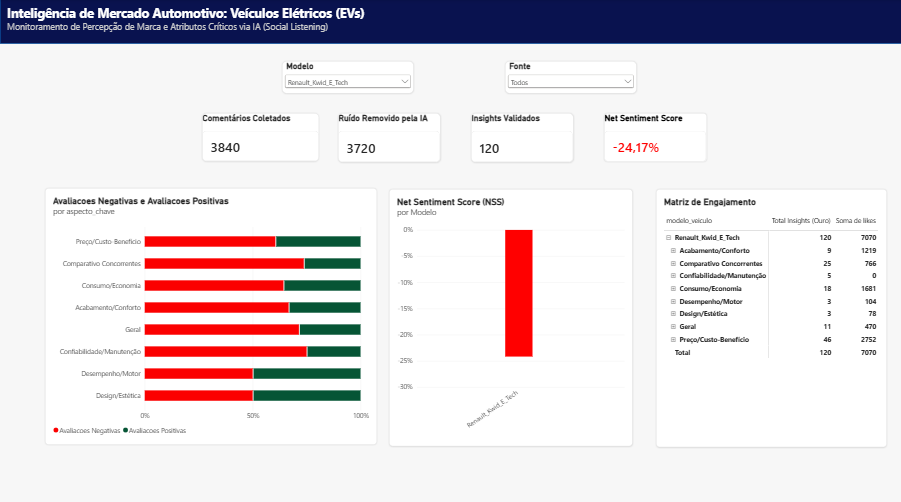

The dashboard page shown, as its layout file describes it:
{"tool":"powerbi","page":{"name":"Página 1","canvas":[1920,1080],"ordinal":0},"visuals":[{"type":"shape","box":[0,0,1920,95],"z":0},{"type":"slicer","fields":{"Values":["dModelo.Modelo"]},"box":[25,111,280,68.6],"z":1000},{"type":"slicer","fields":{"Values":["dFonte.Fonte"]},"box":[376,111,280,68.6],"z":2000},{"type":"cardVisual","title":"Comentários Coletados","fields":{"Data":["_Medidas.Total Volume Bruto"]},"box":[48.9,282.8,249.4,103.3],"z":2001},{"type":"cardVisual","title":"Ruído Removido pela IA","fields":{"Data":["_Medidas.Ruido Descartado"]},"box":[355,282.8,217.5,105],"z":2002},{"type":"cardVisual","title":"Insights Validados","fields":{"Data":["_Medidas.Total Insights (Ouro)"]},"box":[633.5,282.8,217.5,105],"z":2003},{"type":"cardVisual","title":"Net Sentiment Score","fields":{"Data":["_Medidas.Net Sentiment Score (NSS)"]},"box":[916.3,282.8,219,104.2],"z":2004},{"type":"donutChart","fields":{"Y":["_Medidas.Ruido Descartado","_Medidas.Total Insights (Ouro)"]},"box":[48.9,433.7,496.4,340.2],"z":2005},{"type":"hundredPercentStackedBarChart","fields":{"Category":["fAvaliacoes.aspecto_chave"],"Y":["_Medidas.Avaliacoes Negativas","_Medidas.Avaliacoes Positivas"]},"box":[608,433.7,705.5,370.4],"z":2006},{"type":"pivotTable","fields":{"Rows":["fAvaliacoes.modelo_veiculo","fAvaliacoes.aspecto_chave","fAvaliacoes.resumo_insight"],"Values":["Sum(fAvaliacoes.likes)"]},"box":[95.7,803.6,297.6,233.9],"z":2008},{"type":"clusteredColumnChart","fields":{"Category":["dModelo.Modelo"],"Y":["_Medidas.Net Sentiment Score (NSS)"]},"box":[1362.8,433.7,518.7,646.3],"z":2009}]}

Visuals, with their boxes in screenshot pixels (x1, y1, x2, y2), scaled from the page's 1920x1080 canvas onto the 901x502 screenshot:
shape: 0, 0, 900, 44
slicer - dModelo.Modelo: 12, 52, 143, 83
slicer - dFonte.Fonte: 176, 52, 308, 83
"Comentários Coletados" cardVisual: 23, 131, 140, 179
"Ruído Removido pela IA" cardVisual: 167, 131, 269, 180
"Insights Validados" cardVisual: 297, 131, 399, 180
"Net Sentiment Score" cardVisual: 430, 131, 533, 180
donutChart - _Medidas.Ruido Descartado x _Medidas.Total Insights (Ouro): 23, 202, 256, 360
hundredPercentStackedBarChart - fAvaliacoes.aspecto_chave x _Medidas.Avaliacoes Negativas: 285, 202, 616, 374
pivotTable - fAvaliacoes.modelo_veiculo x fAvaliacoes.aspecto_chave: 45, 374, 185, 482
clusteredColumnChart - dModelo.Modelo x _Medidas.Net Sentiment Score (NSS): 640, 202, 883, 501
